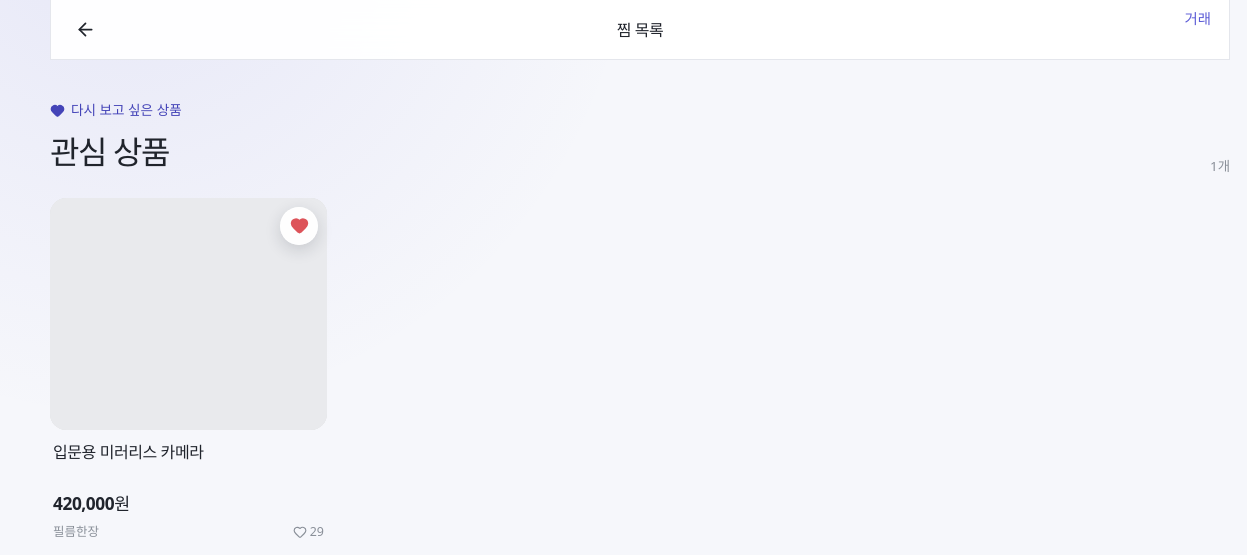
개발자 A 핵심 거래 흐름 › 찜 목록에서 관심 상품을 즉시 제거한다
The width and height of the screenshot is (1247, 555).
Expected: the heading "입문용 미러리스 카메라" is shown, [53,441,204,463]
Click the button named "입문용 미러리스 카메라 관심 해제" at (299, 226), box [280,207,318,245]
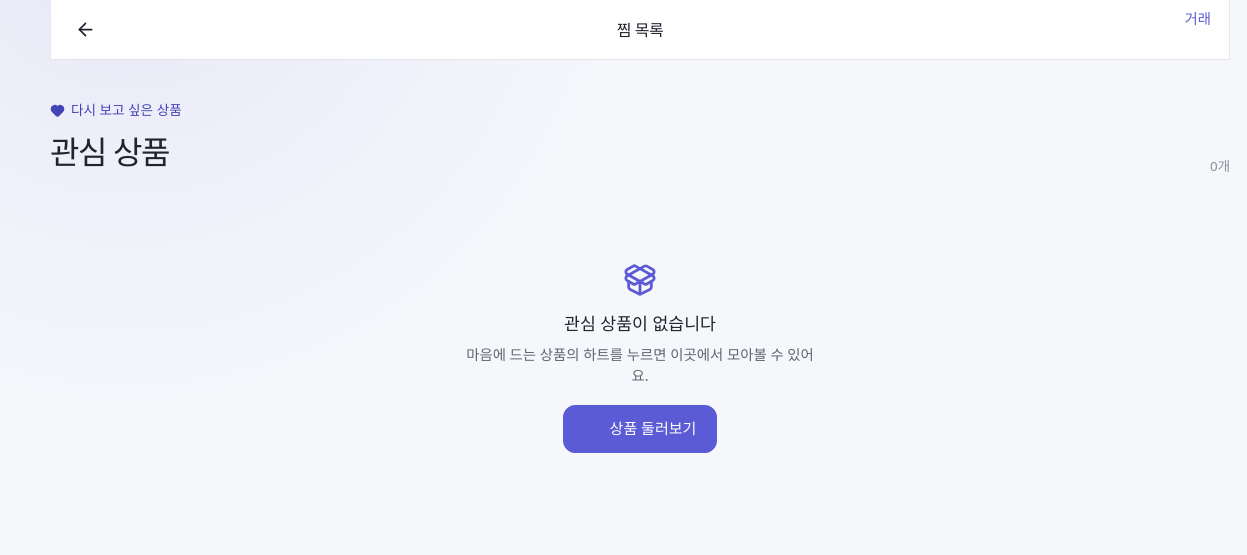
Expected: the link "입문용 미러리스 카메라" is gone
Expected: the text "관심 상품이 없습니다" is shown, [564,311,716,336]
